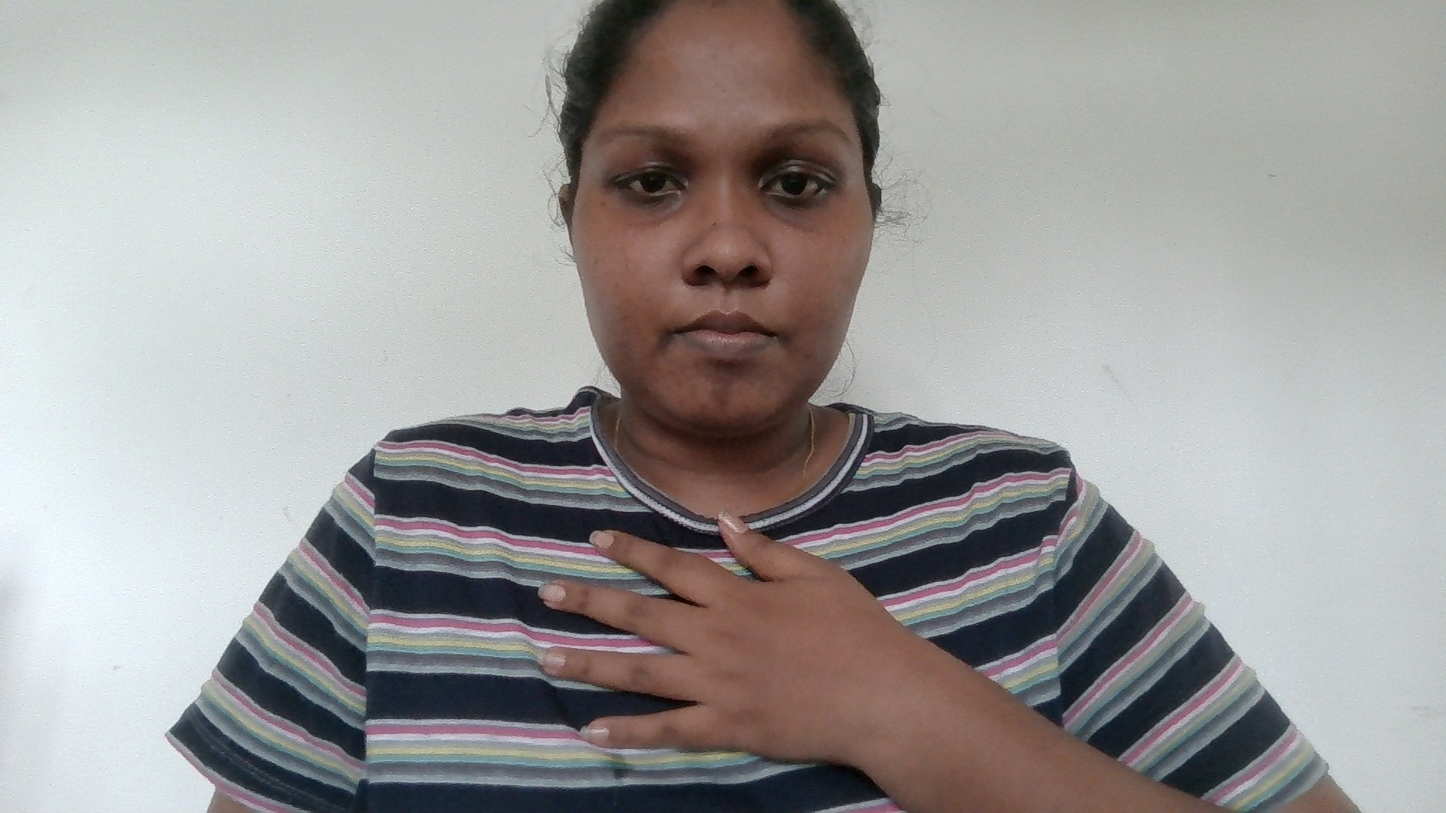Please: (503, 471, 1022, 806)
